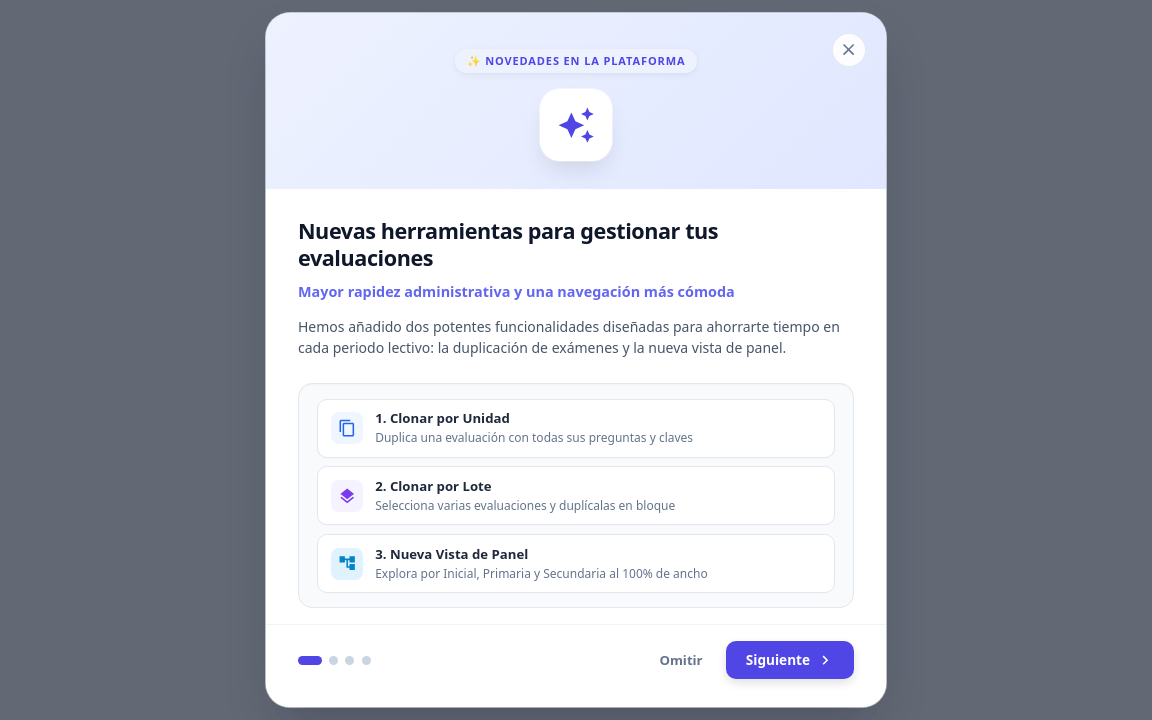
EvaluacionesOnboardingModal › avanza por todos los pasos: Unidad -> Lote -> Panel
This screenshot has width=1152, height=720.
Click the button "Siguiente" at (790, 660), box [726, 642, 854, 680]
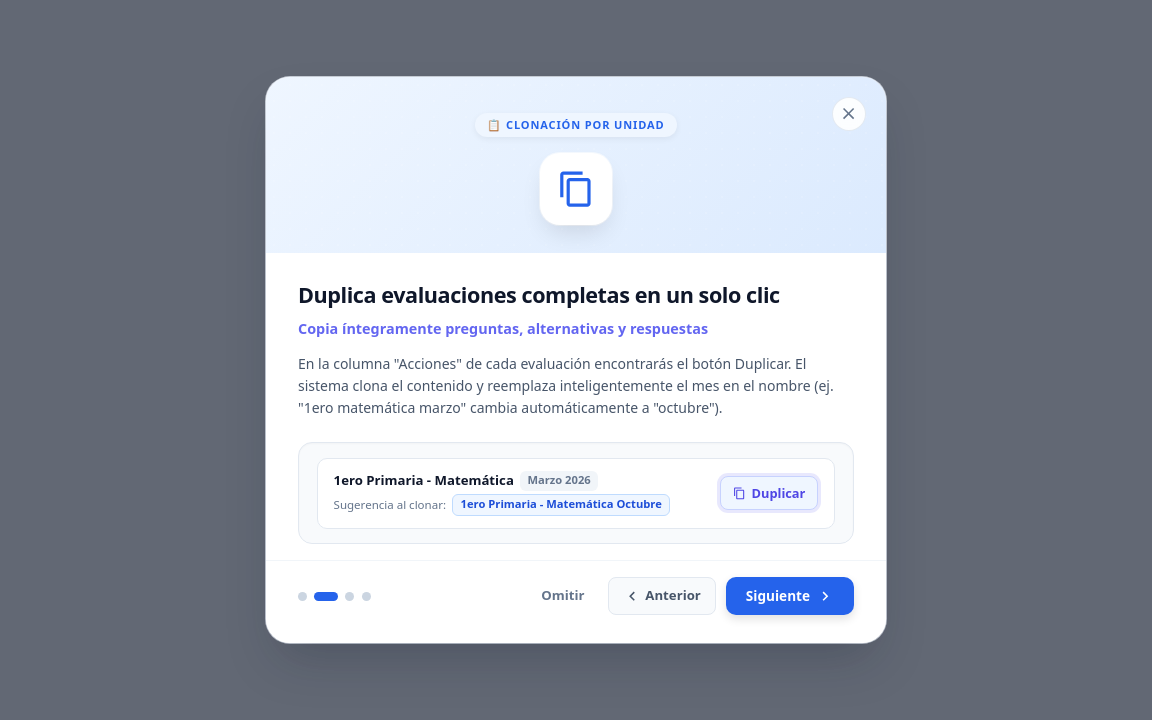
Expected: the heading "Duplica evaluaciones completas en un solo clic" is shown, [298, 281, 854, 308]
Expected: the text "Copia íntegramente preguntas, alternativas y respuestas" is shown, [298, 319, 708, 338]
Click the button "Siguiente" at (790, 596), box [726, 577, 854, 615]
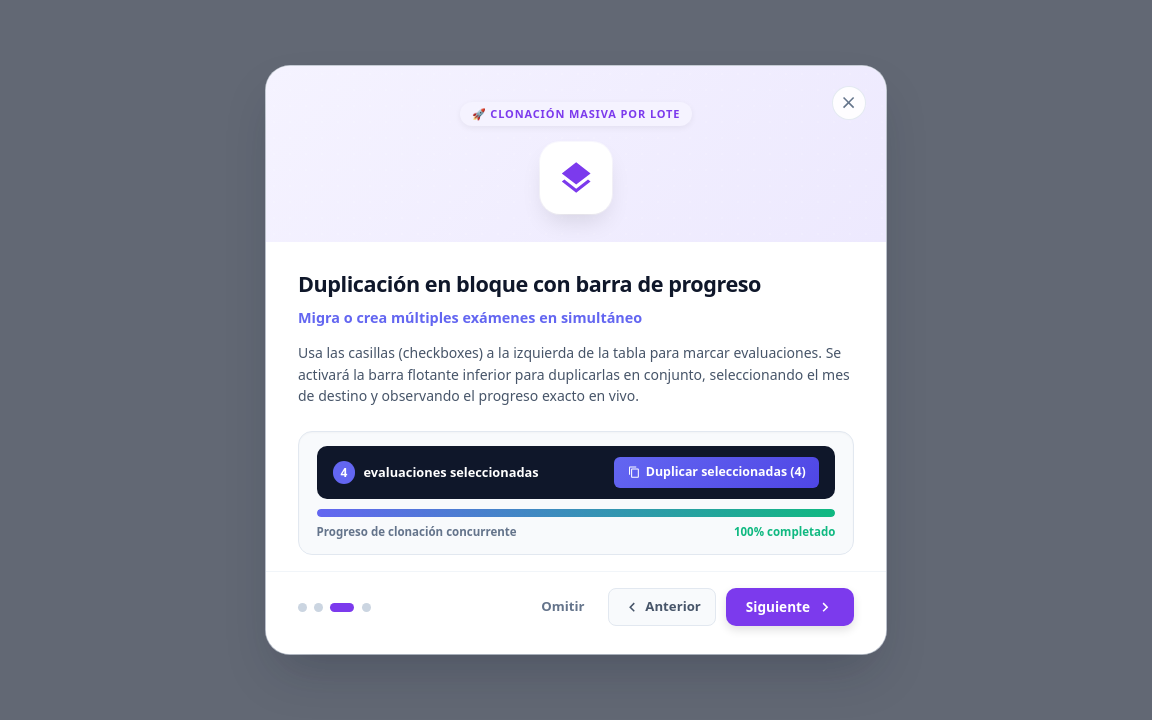
Expected: the heading "Duplicación en bloque con barra de progreso" is shown, [298, 269, 761, 298]
Expected: the text "Migra o crea múltiples exámenes en simultáneo" is shown, [298, 308, 642, 327]
Click the button "Siguiente" at (790, 607), box [726, 588, 854, 626]
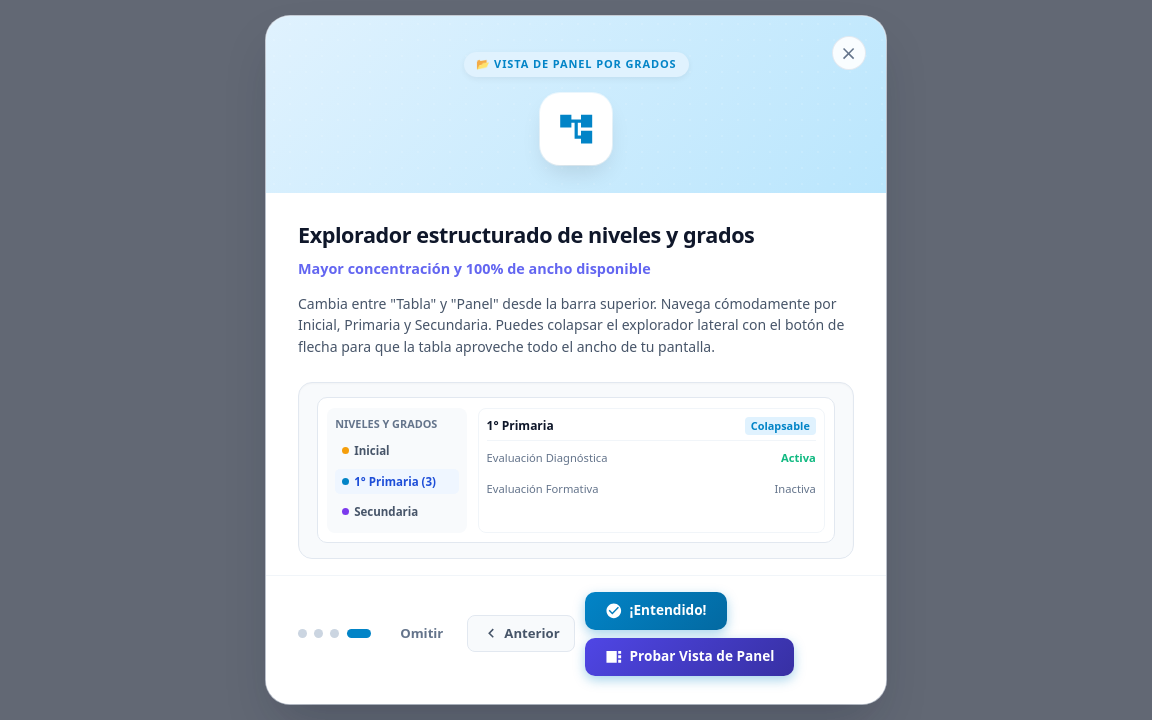
Expected: the heading "Explorador estructurado de niveles y grados" is shown, [298, 220, 754, 249]
Expected: the text "Mayor concentración y 100% de ancho disponible" is shown, [298, 258, 651, 278]
Expected: the text "¡Entendido!" is shown, [630, 600, 706, 621]
